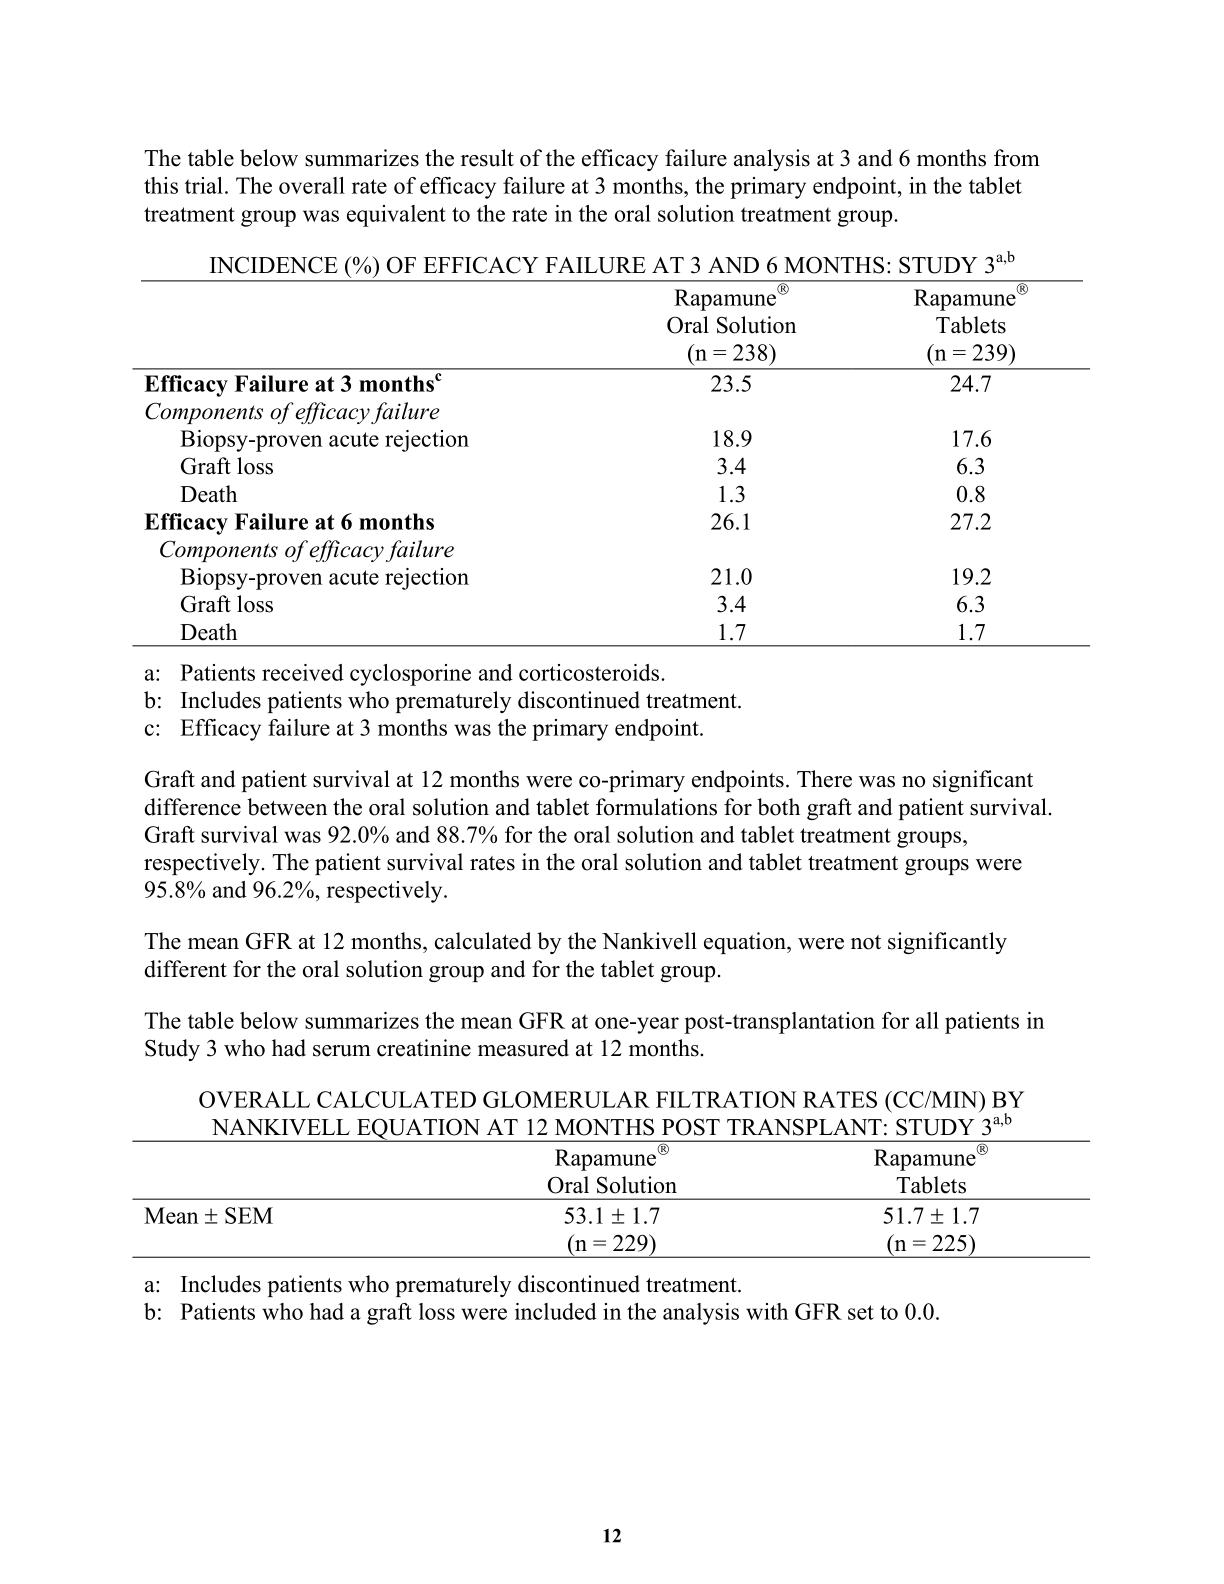partial_lined: (131, 278, 1090, 648), (130, 1140, 1092, 1259)
